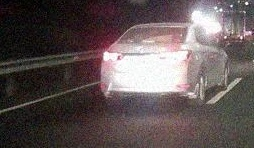L_light: (102, 50, 122, 62)
R_light: (165, 50, 190, 61)
T_light: (150, 27, 163, 30)
night-no: (100, 24, 194, 105)
